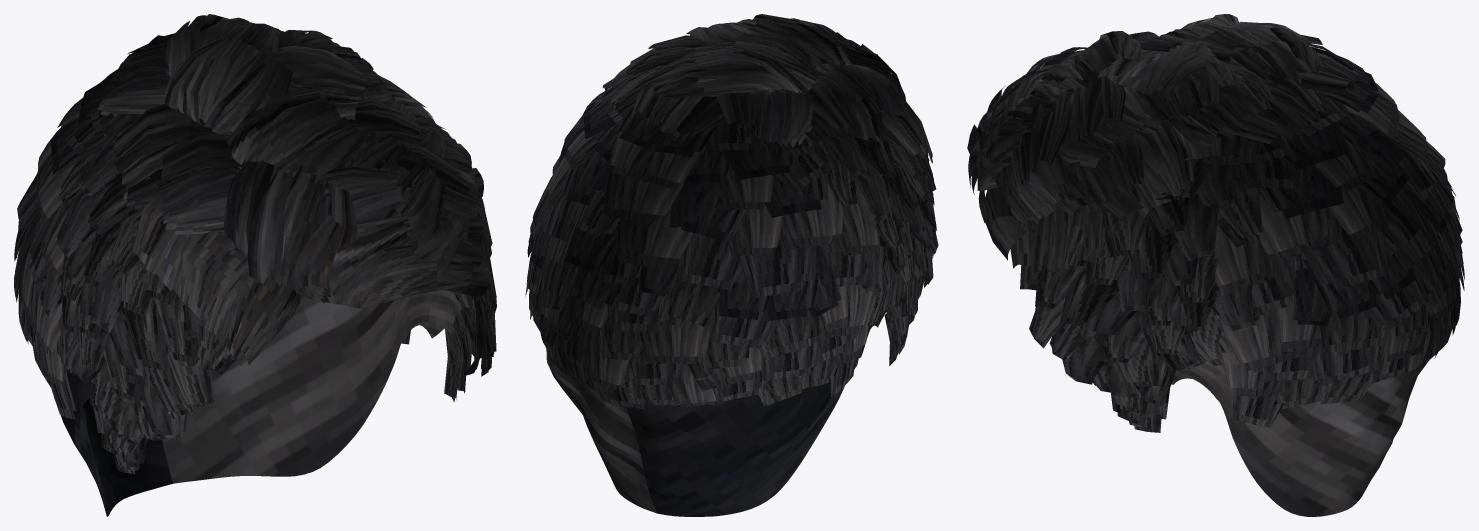
Rendered from man_hair_black.gltf.
The picture shows the model from 3 angles, left to right: view 1: azimuth 30°, elevation 25°; view 2: azimuth 150°, elevation 25°; view 3: azimuth 270°, elevation 25°; orthographic projection. The views are drawn at different scales.
Parts seen in each view (by area): view 1: man_hair_black; view 2: man_hair_black; view 3: man_hair_black.
Part boxes in pixels (<box>): man_hair_black: <box>14,14,496,516</box>; man_hair_black: <box>525,14,938,516</box>; man_hair_black: <box>967,14,1464,516</box>.
Bounding box in the file's own units: 18.26 × 22.68 × 22.48.
1 material, 1 textured.
